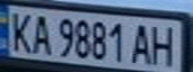1: (106, 19, 130, 63)
8: (72, 17, 93, 60), (90, 18, 109, 61)
9: (51, 15, 75, 57)
A: (127, 20, 157, 65), (27, 11, 54, 55)
H: (145, 21, 181, 68)
K: (3, 8, 36, 53)
